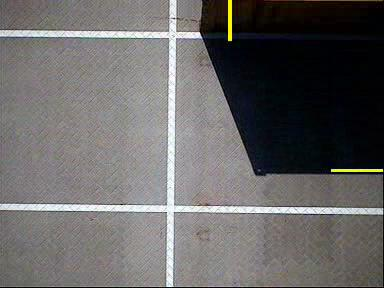groundmarker_2: (83, 187, 162, 231)
